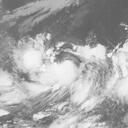cyclone: (43, 46, 101, 103)
